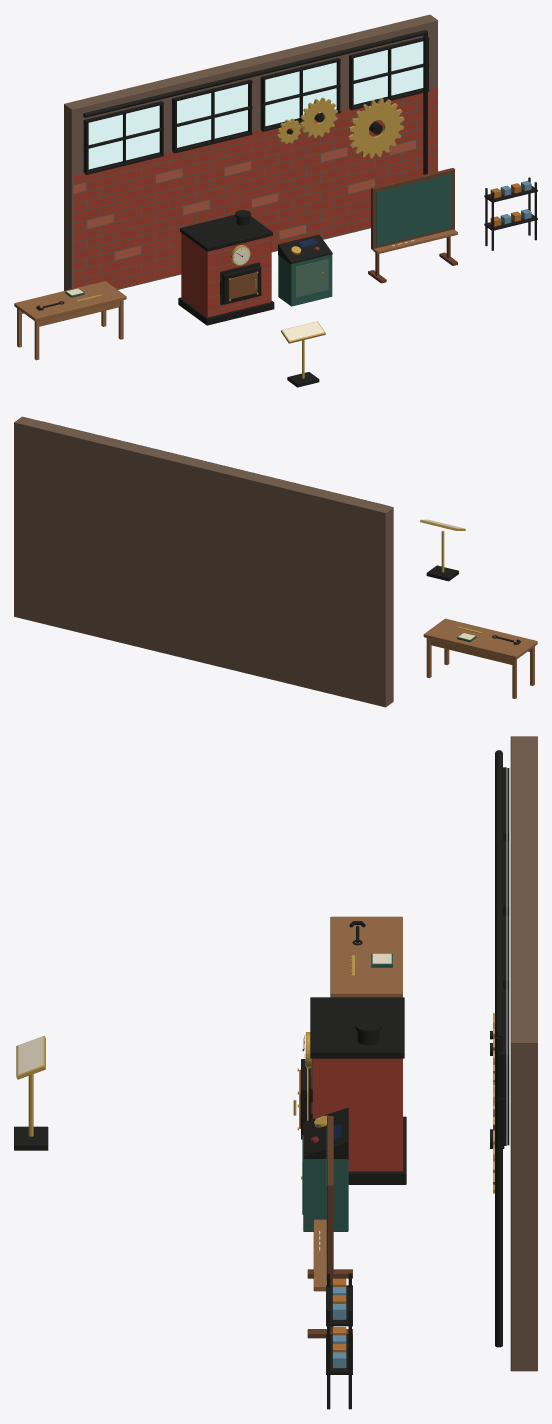
Rendered from S4_factory.glb.
3 renders of one model, top to bottom at view 1: azimuth 30°, elevation 25°; view 2: azimuth 150°, elevation 25°; view 3: azimuth 270°, elevation 25°, orthographic. The views are drawn at different scales.
Parts seen in each view (by area): view 1: S4_1_static, EMIT_highWindow, S4_2_static, SIGN_board, S4_8_static, S4_3_static, ANIM_gear_3, S4_5_static, ANIM_furnaceDoor, S4_6_static, ANIM_gear_2, S4_9_static (+1 smaller); view 2: S4_1_static, S4_8_static, S4_9_static; view 3: S4_1_static, S4_2_static, S4_8_static, S4_3_static, S4_5_static, S4_6_static, S4_9_static, SIGN_label_factory.
Boxes of the visible parts, x1,y1,x2,y2 form: S4_1_static: [64, 14, 437, 290]; EMIT_highWindow: [88, 41, 423, 169]; S4_2_static: [178, 210, 274, 325]; SIGN_board: [376, 173, 452, 246]; S4_8_static: [14, 281, 126, 360]; S4_3_static: [278, 234, 332, 306]; ANIM_gear_3: [348, 98, 404, 158]; S4_5_static: [368, 168, 457, 283]; ANIM_furnaceDoor: [222, 265, 261, 304]; S4_6_static: [484, 177, 537, 250]; ANIM_gear_2: [300, 97, 337, 137]; S4_9_static: [281, 321, 325, 387]; S4_1_static: [14, 416, 393, 707]; S4_8_static: [423, 618, 537, 698]; S4_9_static: [420, 519, 465, 581]; S4_1_static: [495, 736, 537, 1371]; S4_2_static: [308, 997, 406, 1184]; S4_8_static: [330, 916, 402, 997]; S4_3_static: [301, 1107, 348, 1231]; S4_5_static: [307, 1116, 352, 1338]; S4_6_static: [326, 1273, 352, 1409]; S4_9_static: [14, 1036, 48, 1150]; SIGN_label_factory: [18, 1036, 43, 1074].
Size of the model in its own units: 10.95 by 4 by 5.78.
